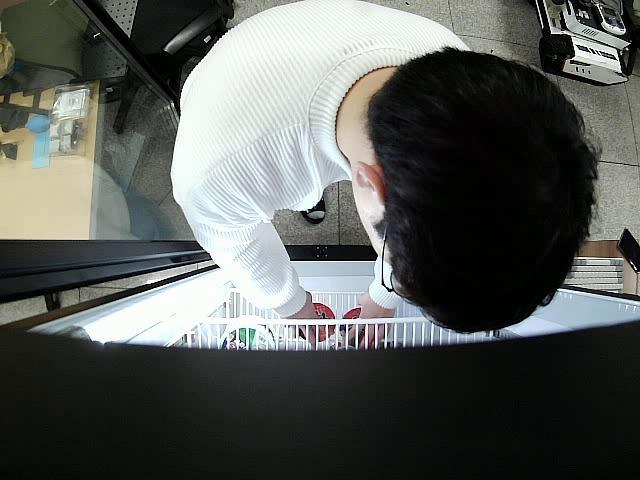02_shinRamen_S: (340, 308, 379, 348), (300, 302, 336, 342)
